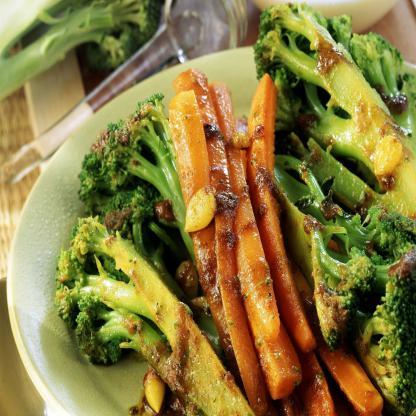broccoli: (56, 1, 416, 416)
